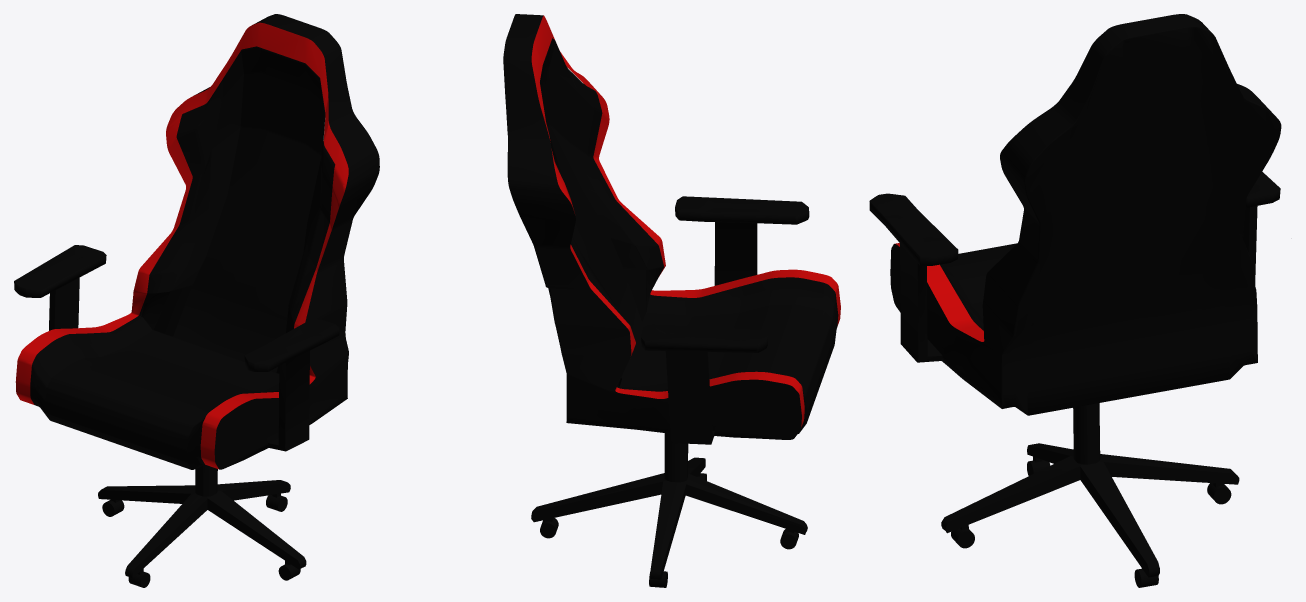
Rendered from chaise.glb.
3 renders of one model, left to right at view 1: azimuth 30°, elevation 25°; view 2: azimuth 150°, elevation 25°; view 3: azimuth 270°, elevation 25°, orthographic. The views are drawn at different scales.
Parts seen in each view (by area): view 1: Chaise; view 2: Chaise; view 3: Chaise.
Part boxes in pixels (x1=…): Chaise: x1=14, y1=14, x2=379, y2=587; Chaise: x1=503, y1=14, x2=840, y2=587; Chaise: x1=869, y1=14, x2=1281, y2=587.
Bounding box in the file's own units: 6.41 × 9.01 × 6.02.
